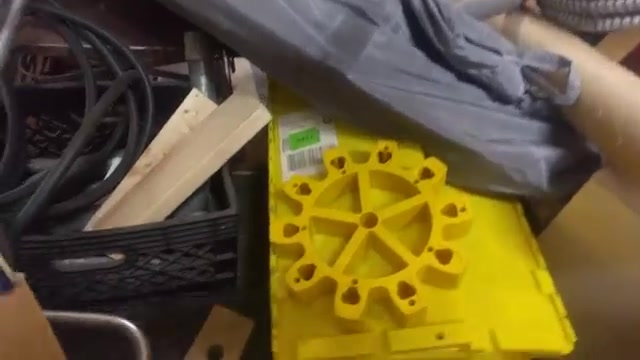gear: (253, 131, 491, 332)
